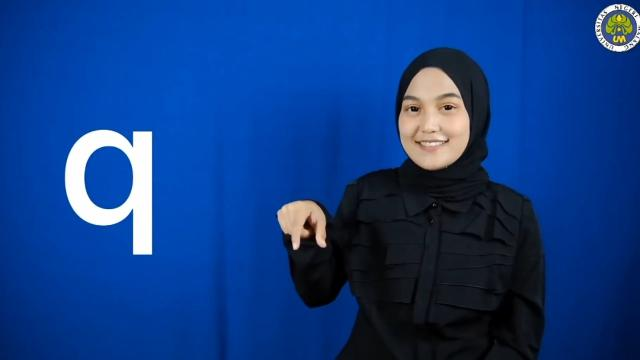Q: (276, 200, 332, 252)
